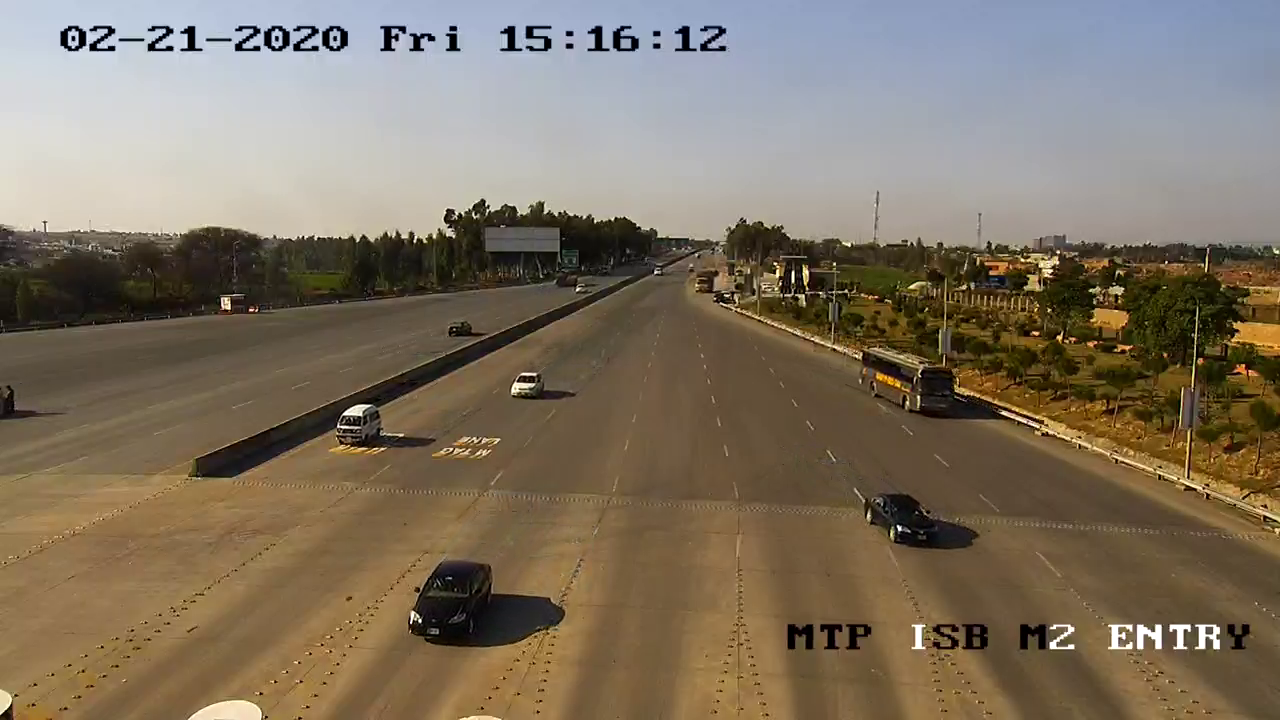f1: (402, 555, 500, 652), (861, 484, 952, 551), (330, 400, 392, 456), (497, 365, 552, 402)
f4: (858, 338, 965, 421)
